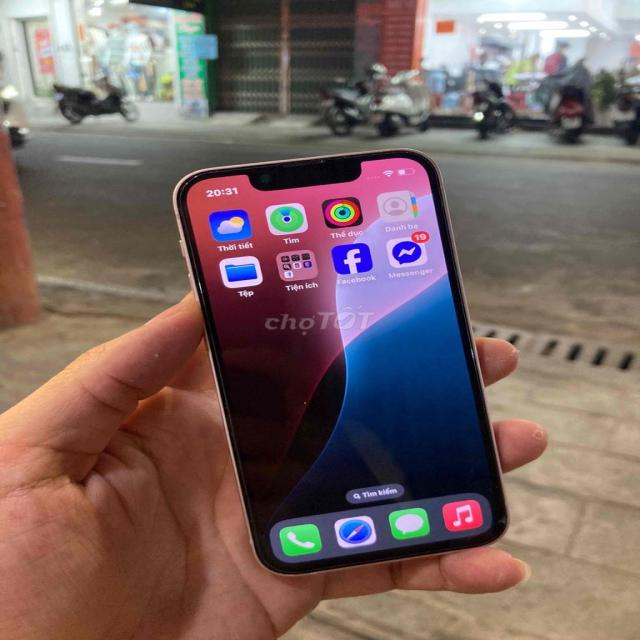gen_12_13: (167, 148, 513, 578)
